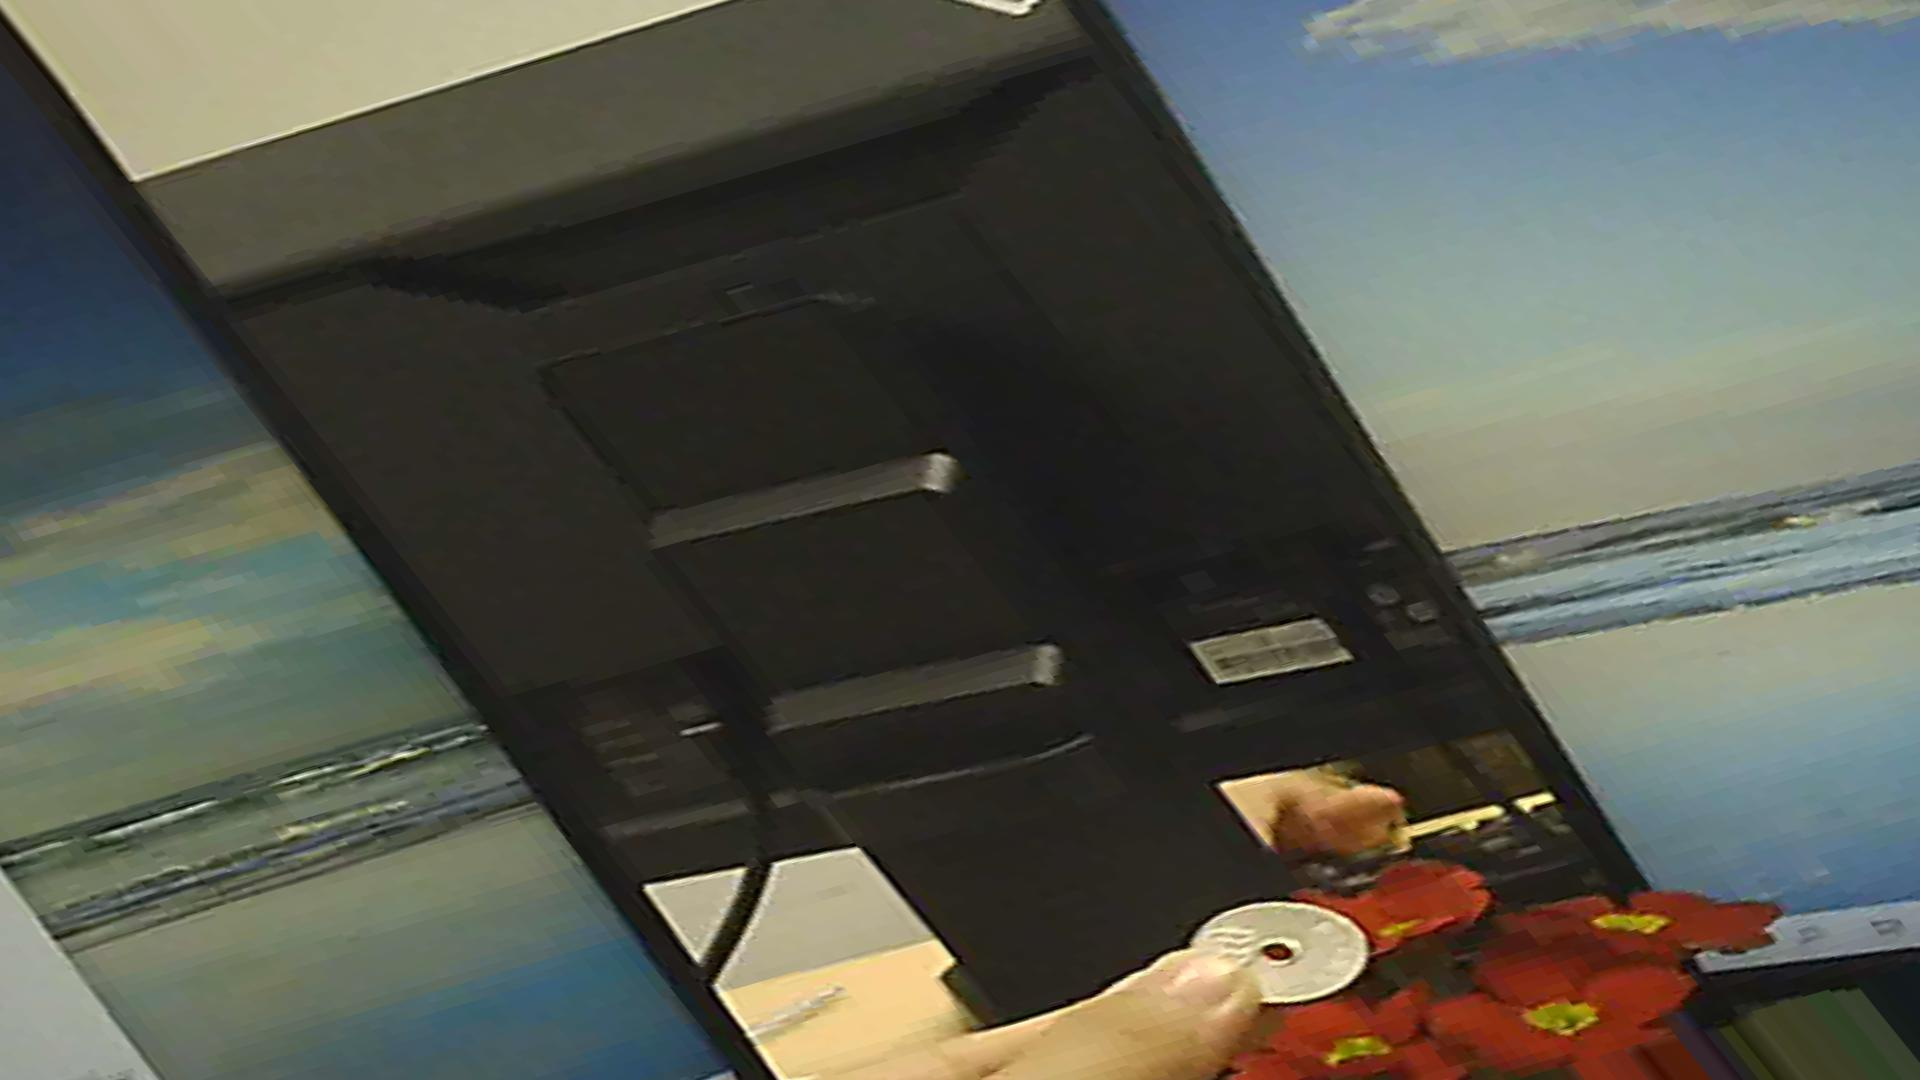50 Yen: (1185, 890, 1369, 1011)
